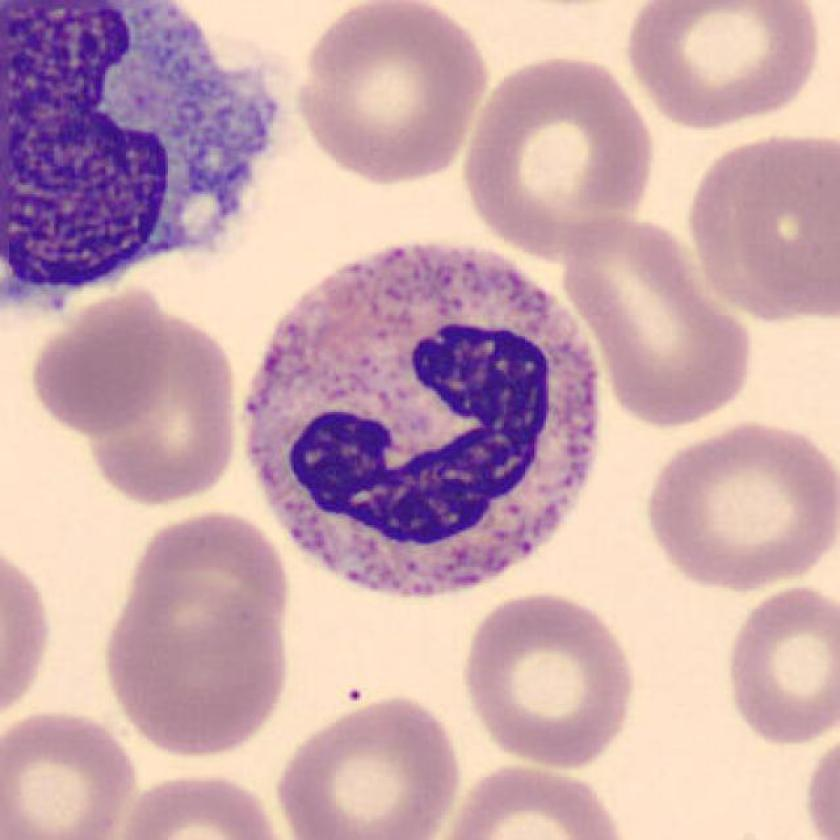neutrophil: (249, 243, 598, 598)
